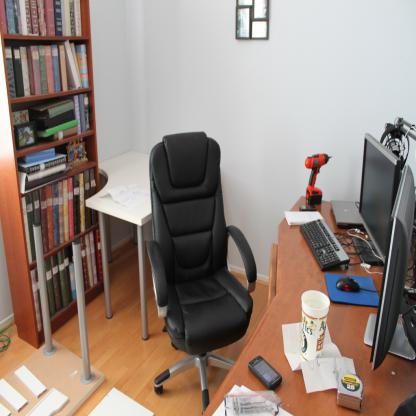book: (30, 226, 102, 334), (20, 168, 98, 267), (5, 36, 90, 100), (0, 0, 90, 36), (72, 93, 92, 136), (284, 210, 326, 225)
